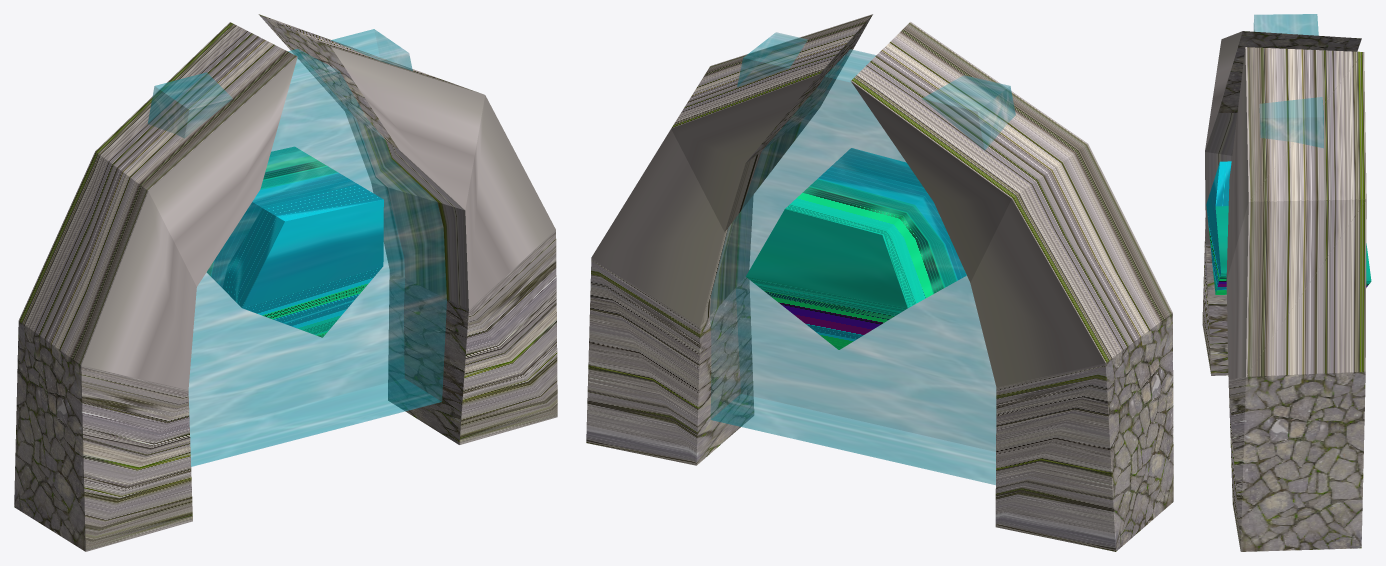
Rendered from portal.glb.
The picture shows the model from 3 angles, left to right: view 1: azimuth 30°, elevation 25°; view 2: azimuth 150°, elevation 25°; view 3: azimuth 270°, elevation 25°; orthographic projection. The views are drawn at different scales.
Visible parts, largest first — view 1: Object_4, Object_10, Object_8; view 2: Object_4, Object_10, Object_8; view 3: Object_4, Object_10, Object_8.
Part boxes in pixels (x1,y1,x2,y2): Object_4: (14,14,557,551); Object_10: (147,29,446,466); Object_8: (207,147,383,337); Object_4: (586,14,1173,551); Object_10: (710,32,1015,484); Object_8: (746,148,966,349); Object_4: (1202,31,1366,551); Object_10: (1253,14,1323,147); Object_8: (1206,161,1371,294).
Bounding box in the file's own units: 216222 × 174422 × 66606.
3 materials, 3 textured.
